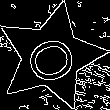O_NE: (18, 27, 83, 86)
